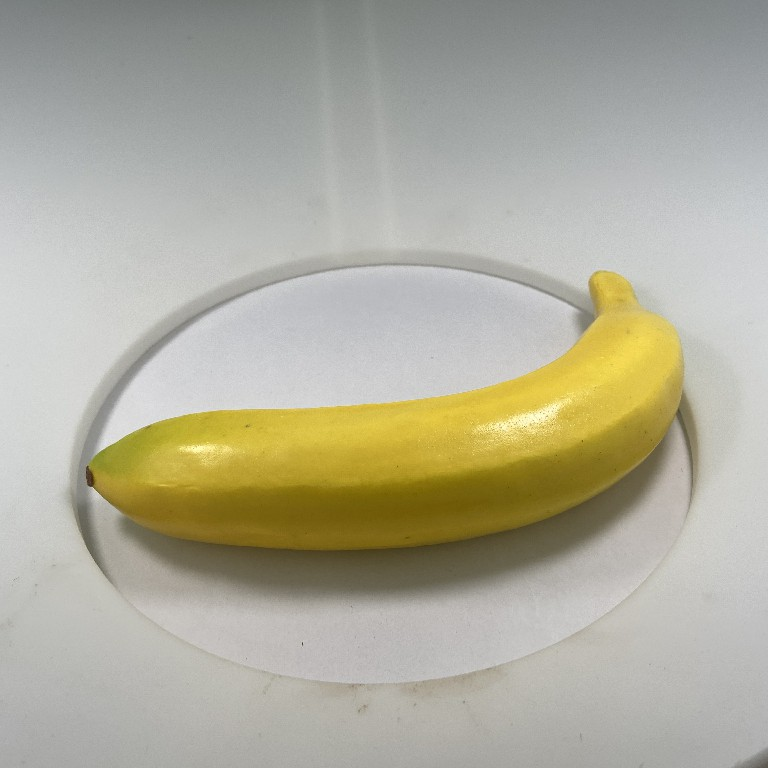fruit_banana: (81, 266, 689, 558)
